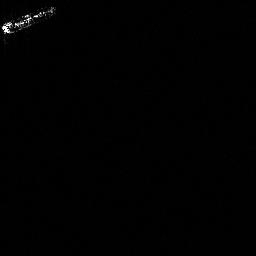ship: (1, 3, 57, 36)
